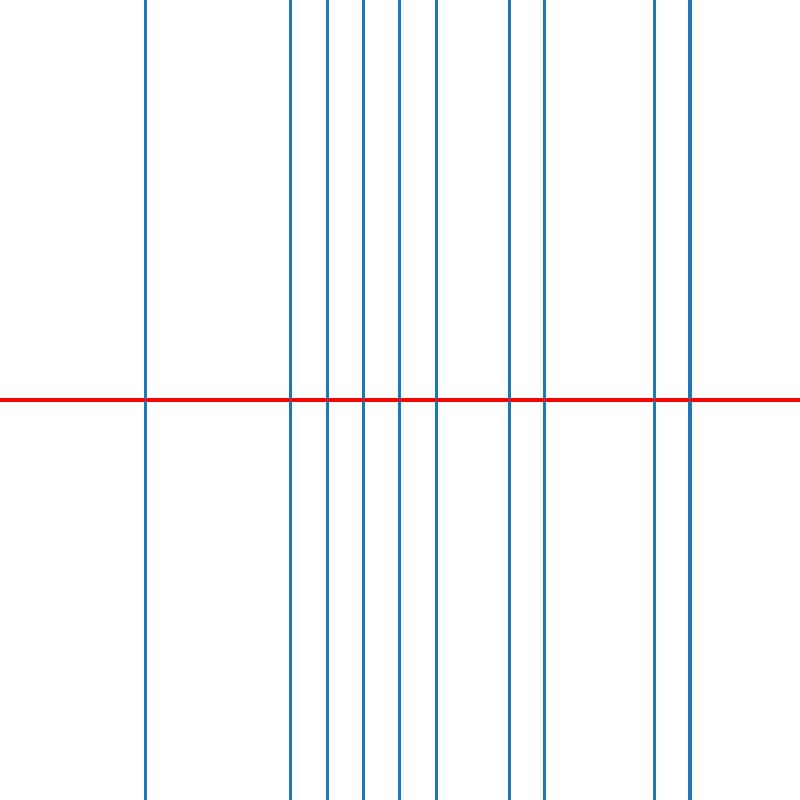root: (432, 396, 440, 404), (141, 396, 149, 404), (541, 396, 549, 404), (650, 396, 658, 404), (396, 396, 403, 404), (287, 396, 294, 404), (687, 396, 694, 404), (505, 396, 512, 404), (323, 396, 330, 404), (360, 396, 367, 404)
